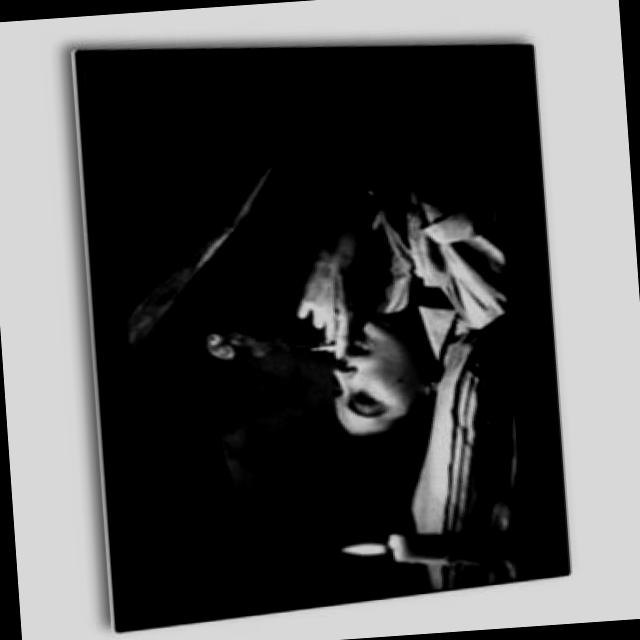smoke: (282, 332, 364, 362)
